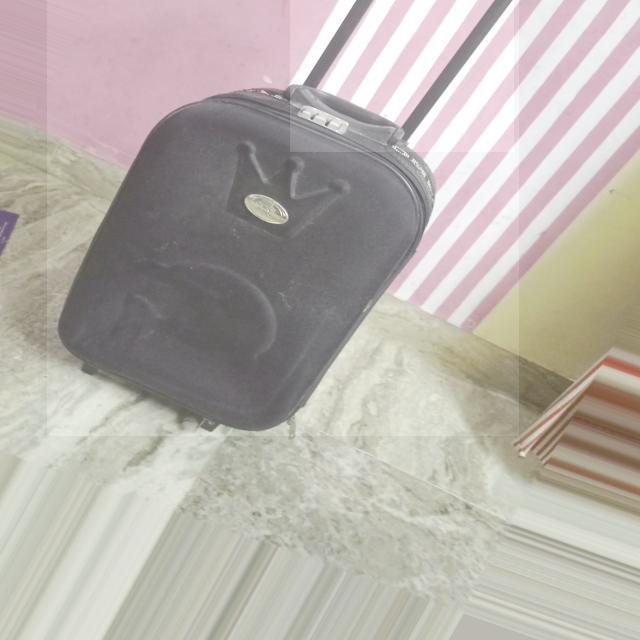Bag: (49, 0, 518, 443)
Handle: (291, 1, 513, 140)
